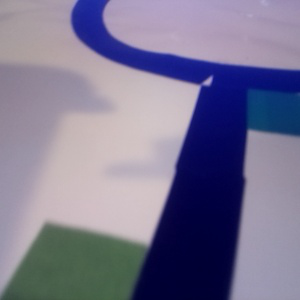bottom_right: (202, 69, 300, 159)
top_left: (1, 179, 231, 300)
